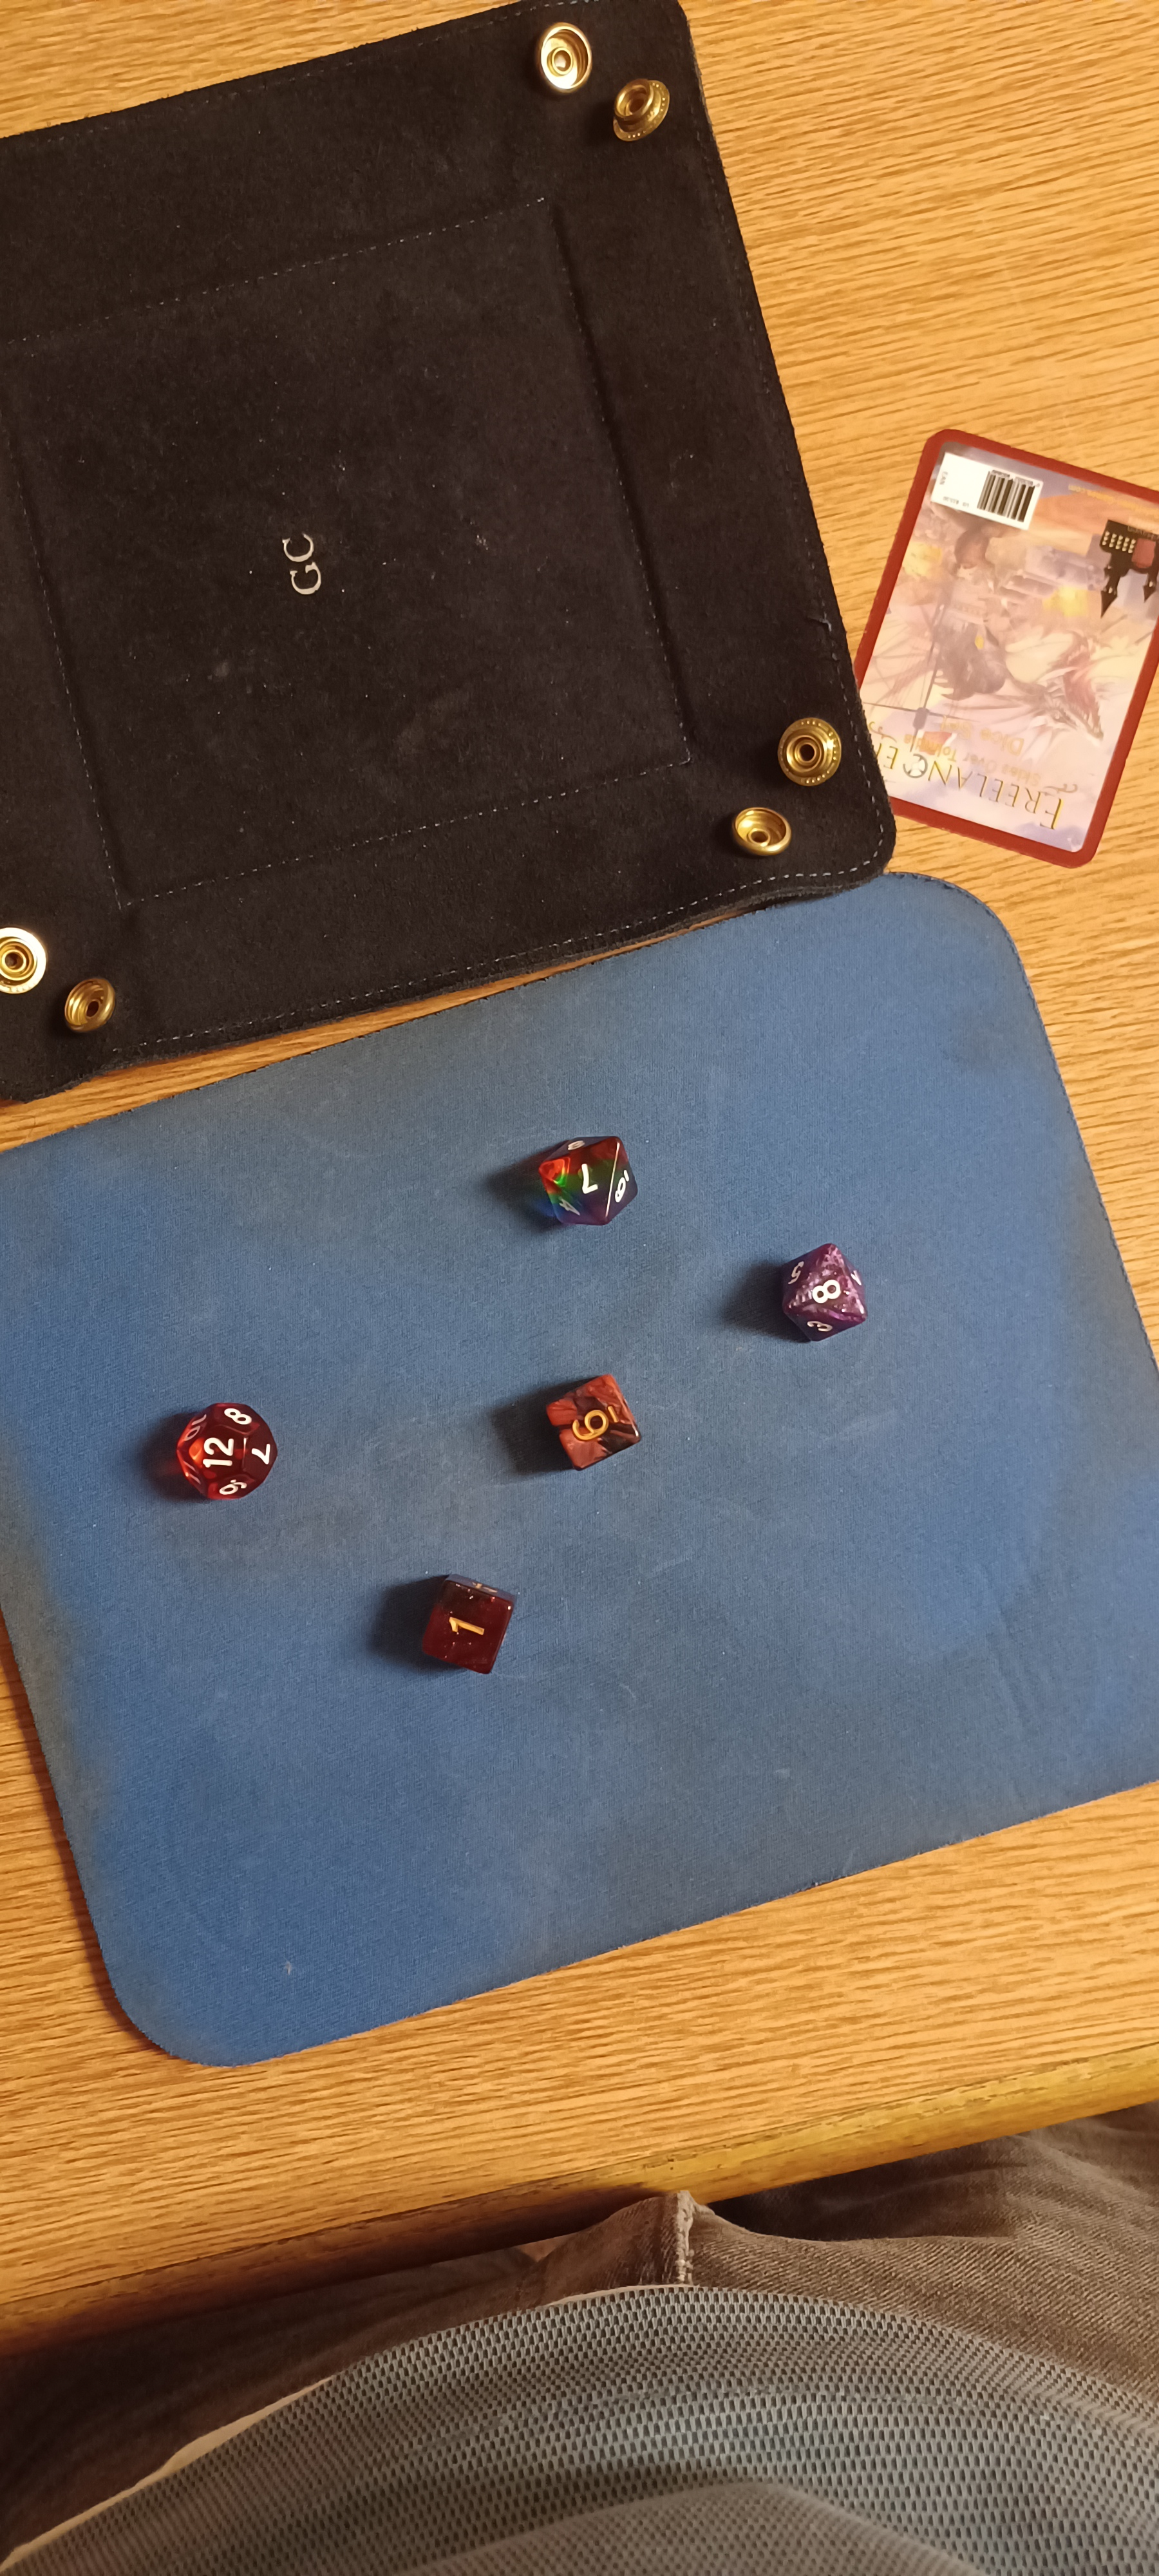eight: (750, 1232, 891, 1350)
one: (409, 1554, 522, 1692)
seven: (519, 1122, 645, 1234)
six: (532, 1364, 660, 1483)
twelve: (153, 1391, 304, 1515)
